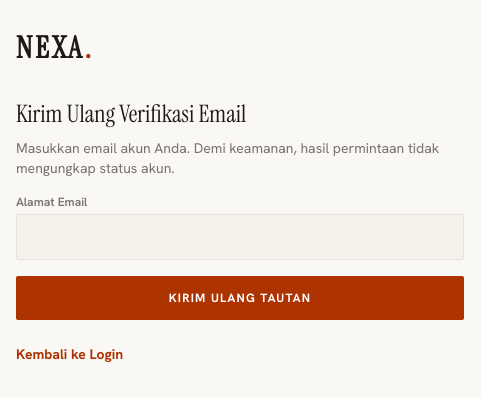
Test case: ResendVerificationPage › keeps the form available and reports request failures
Type "buyer@example.com" into the field labelled "Alamat Email".
click(240, 237); type("buyer@example.com")  # box top-left (16, 214), bottom-right (464, 260)
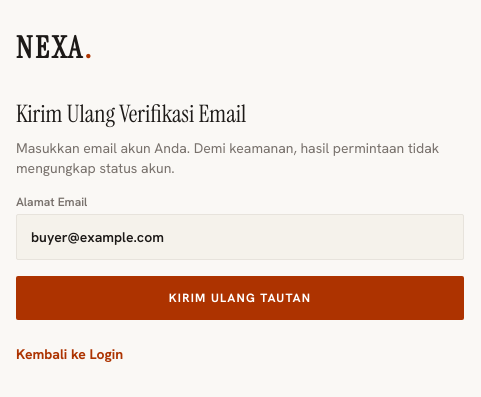
Click the button "Kirim Ulang Tautan".
click(240, 298)  # box top-left (16, 276), bottom-right (464, 320)
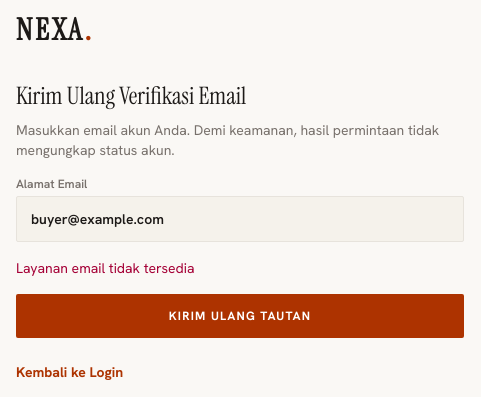
Now the message reads "Layanan email tidak tersedia", box top-left (16, 259), bottom-right (194, 277)
